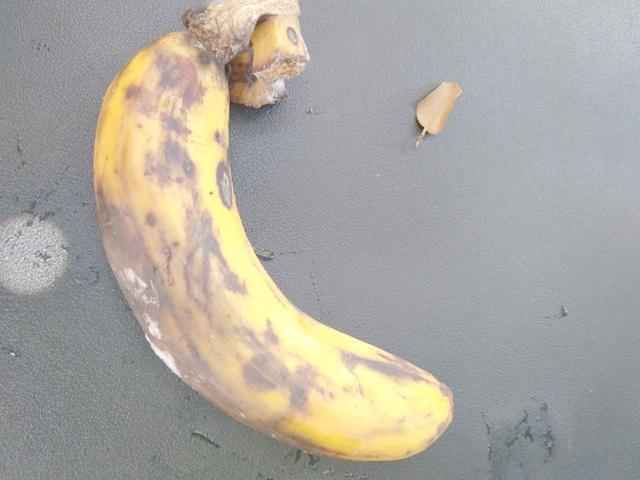overripe: (89, 36, 457, 476)
rotten: (64, 182, 298, 479)
